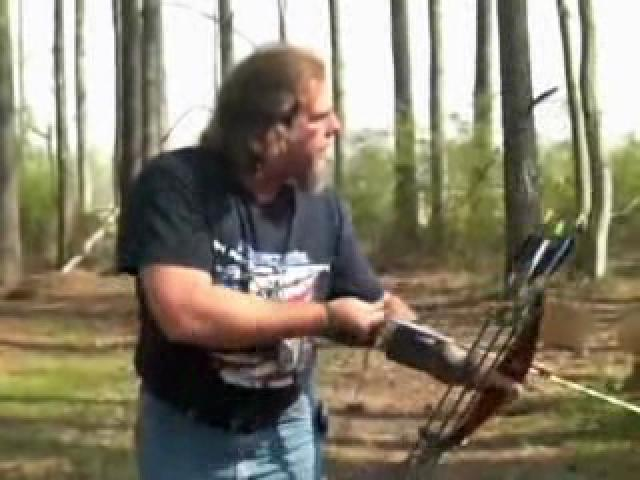I: (108, 29, 552, 480)
